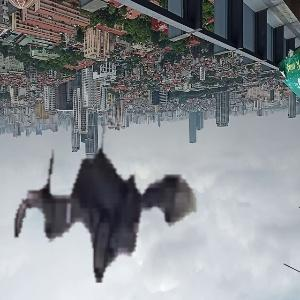drone: (5, 75, 214, 284)
